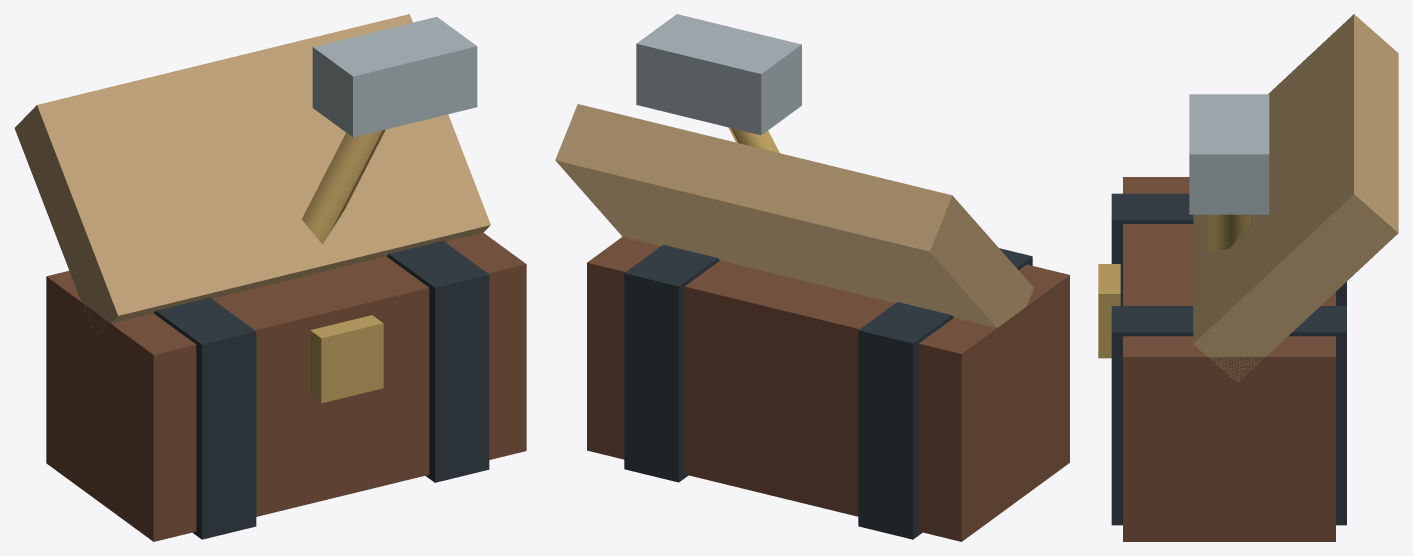
Rendered from fixed-kit-lod1.glb.
3 renders of one model, left to right at view 1: azimuth 30°, elevation 25°; view 2: azimuth 150°, elevation 25°; view 3: azimuth 270°, elevation 25°, orthographic.
Parts seen in each view (by area): view 1: piece_whole; view 2: piece_whole; view 3: piece_whole.
Boxes of the visible parts, bbox=[...] form: piece_whole: bbox=[14, 14, 526, 541]; piece_whole: bbox=[555, 14, 1069, 541]; piece_whole: bbox=[1098, 14, 1398, 541].
Size of the model in its own units: 0.48 by 0.4775 by 0.3382.
